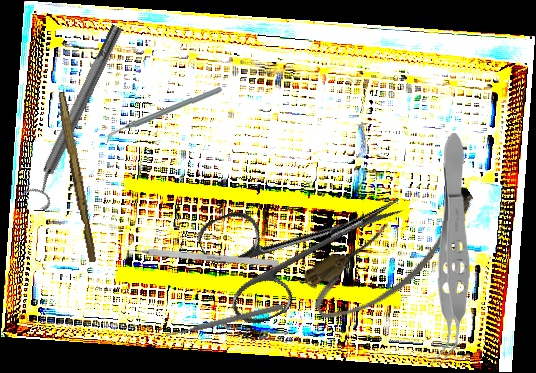Cannula: (296, 174, 495, 334)
Chopper: (104, 84, 223, 146)
Fixation Ring: (17, 20, 134, 212)
Hook Surgical: (117, 245, 279, 268)
Iris Scissors: (192, 150, 423, 333)
Pusher: (164, 302, 285, 340)
Scalpel Handle: (52, 91, 101, 263)
Tissue Forceps: (430, 132, 473, 367)
